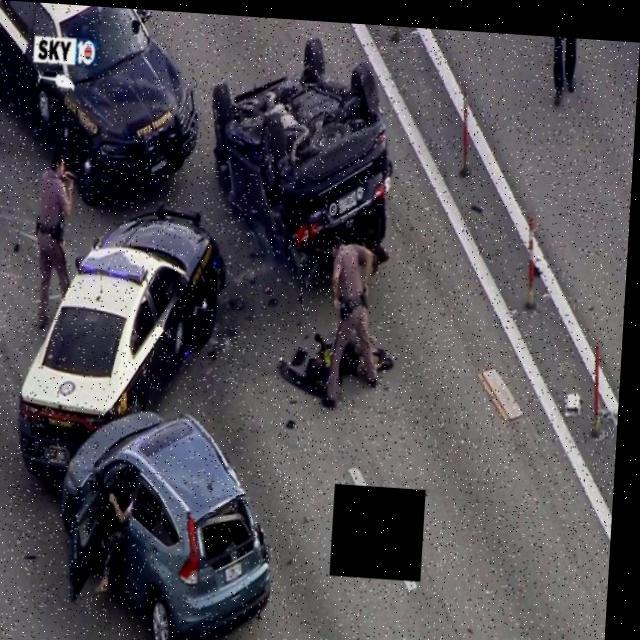multiple_accident: (3, 162, 240, 527), (56, 396, 312, 639), (190, 30, 422, 293)
